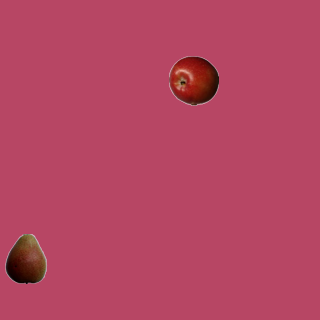Apple Braeburn: (168, 55, 218, 105)
Pear Forelle: (0, 233, 50, 283)
